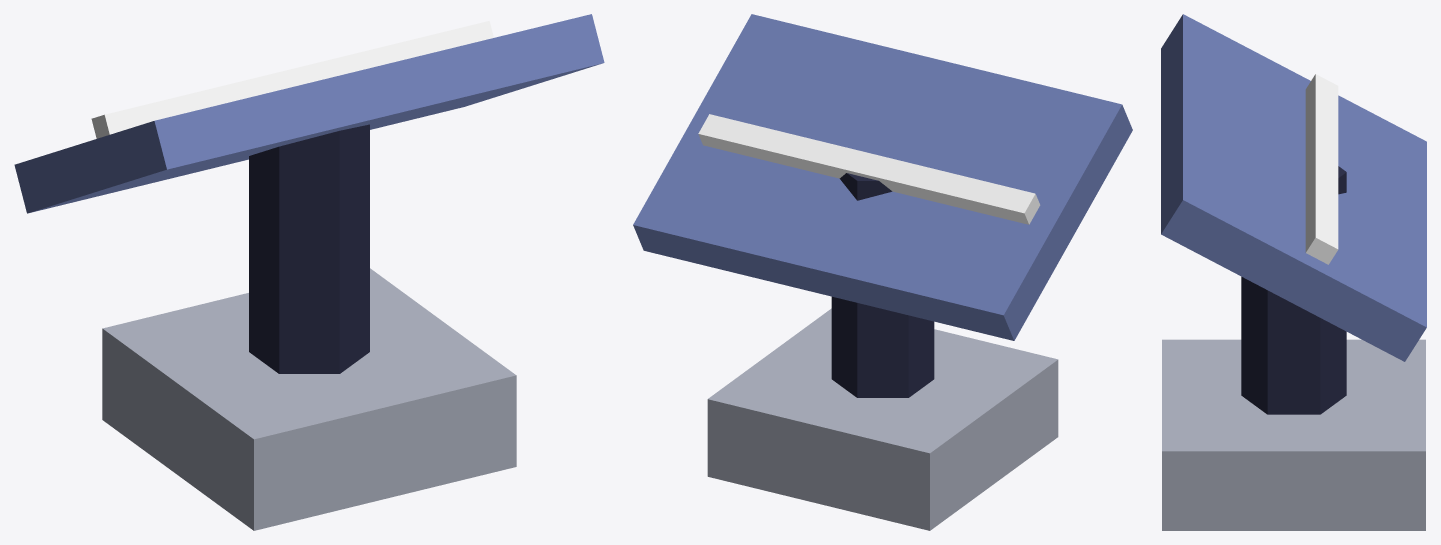
The model's file is solar-panel.glb.
3 renders of one model, left to right at view 1: azimuth 30°, elevation 25°; view 2: azimuth 150°, elevation 25°; view 3: azimuth 270°, elevation 25°, orthographic. The views are drawn at different scales.
Parts seen in each view (by area): view 1: space-solar-panel; view 2: space-solar-panel; view 3: space-solar-panel.
Boxes of the visible parts, x1,y1,x2,y2 form: space-solar-panel: (14, 14, 604, 530); space-solar-panel: (633, 14, 1132, 530); space-solar-panel: (1161, 14, 1426, 530).
Size of the model in its own units: 0.5 by 0.4617 by 0.3021.
